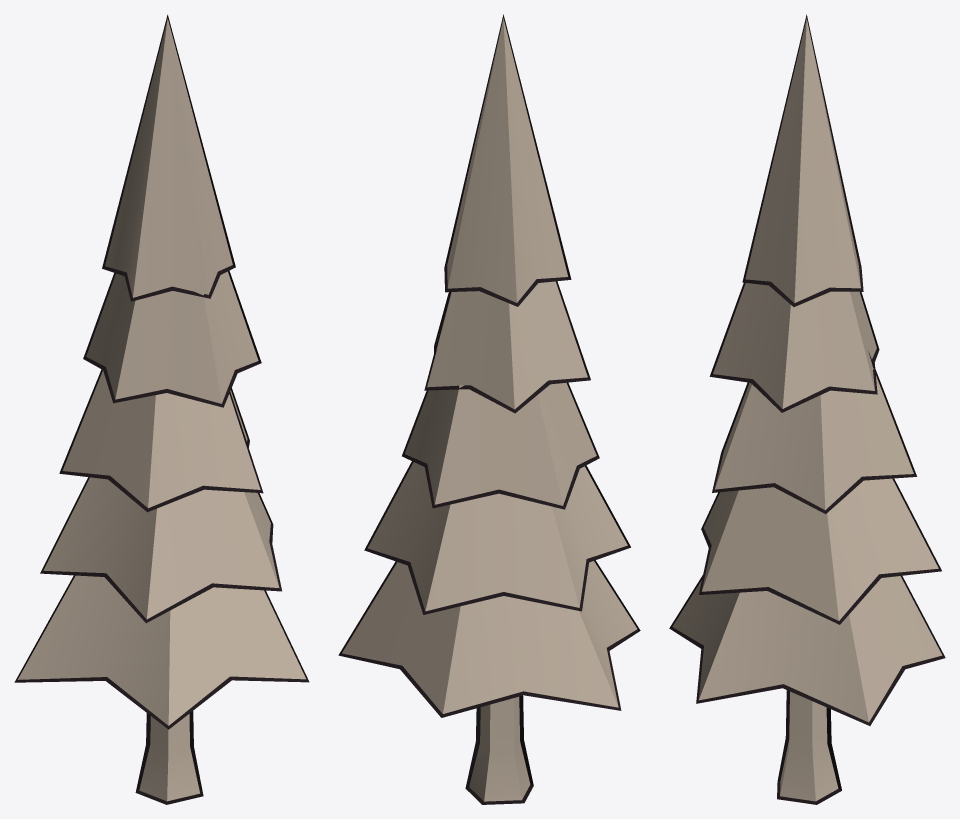
File: SM_Tree_03.fbx
3 views of the same model, side by side, from view 1: azimuth 30°, elevation 25°; view 2: azimuth 150°, elevation 25°; view 3: azimuth 270°, elevation 25° (orthographic).
Parts seen in each view (by area): view 1: SM_Tree_03; view 2: SM_Tree_03; view 3: SM_Tree_03.
Part boxes in pixels (x1,y1,x2,y2): SM_Tree_03: (14, 14, 309, 804); SM_Tree_03: (338, 14, 640, 804); SM_Tree_03: (669, 14, 945, 804).
Bounding box in the file's own units: 2.5 × 6.9 × 2.23.
